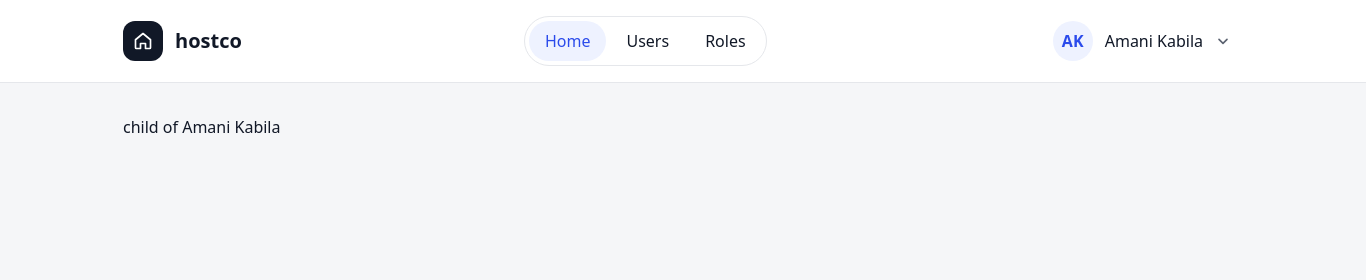
Test: AdminShell (en) › explains when signing out fails, and stays
Click the button "AK Amani Kabila" at [1146, 41], box [1049, 17, 1243, 65]
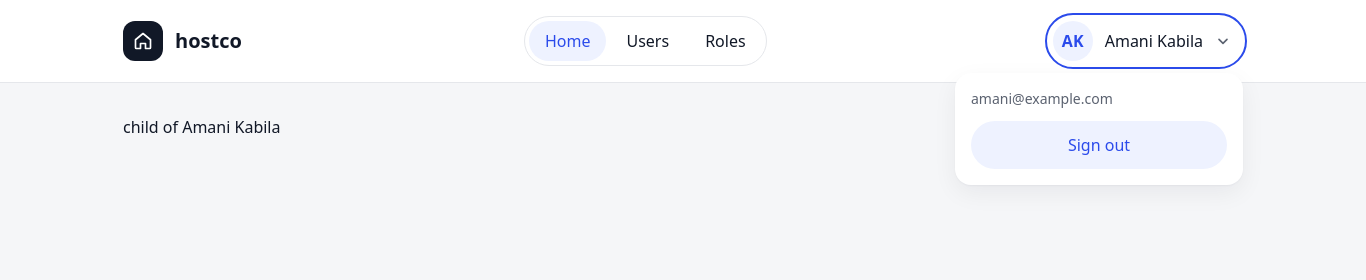
Click the button "Sign out" at [1099, 145], box [971, 121, 1227, 169]
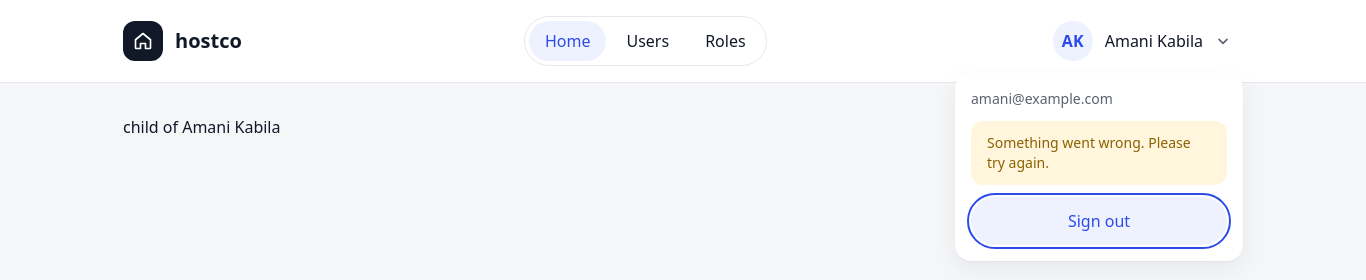
Check: the message reads "Something went wrong. Please try again.", box [987, 133, 1191, 172]
